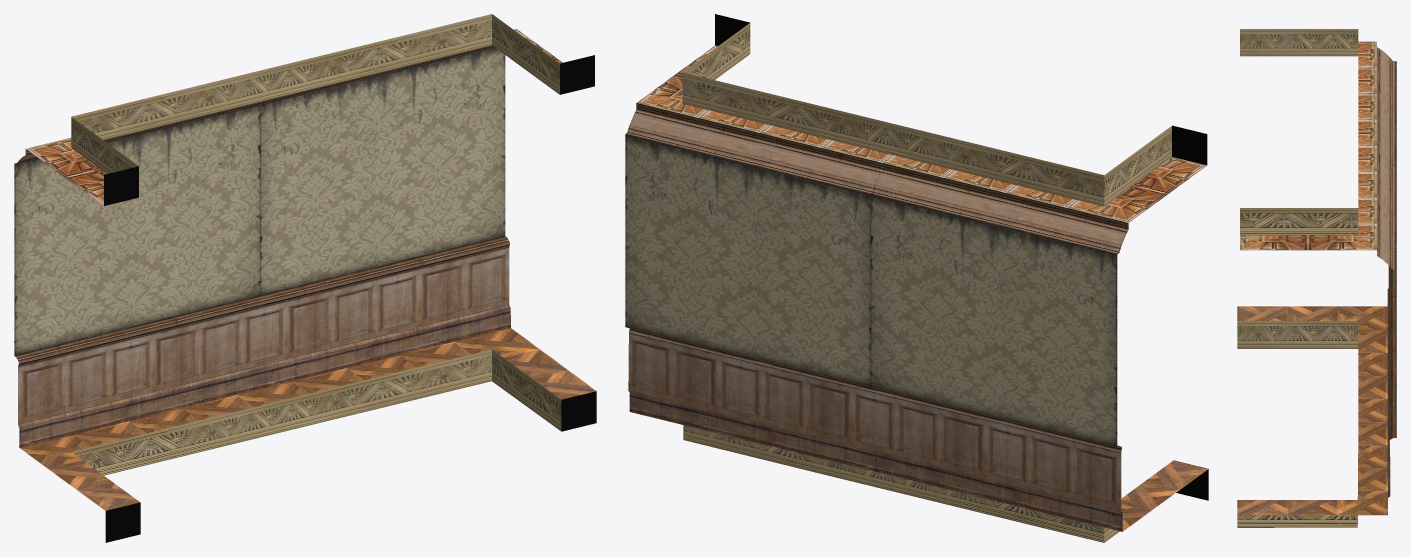
The model's file is Corridor_01_Gap.FBX.
3 views of the same model, side by side, from view 1: azimuth 30°, elevation 25°; view 2: azimuth 150°, elevation 25°; view 3: azimuth 270°, elevation 25° (orthographic). The views are drawn at different scales.
Visible parts, largest first — view 1: Corridor_Empty; view 2: Corridor_Empty; view 3: Corridor_Empty.
Boxes of the visible parts, x1,y1,x2,y2 form: Corridor_Empty: (14,14,596,542); Corridor_Empty: (625,14,1208,542); Corridor_Empty: (1237,29,1396,527).
Size of the model in its own units: 140 by 99.98 by 45.03.
Materials: 5 (4 with a texture image).
